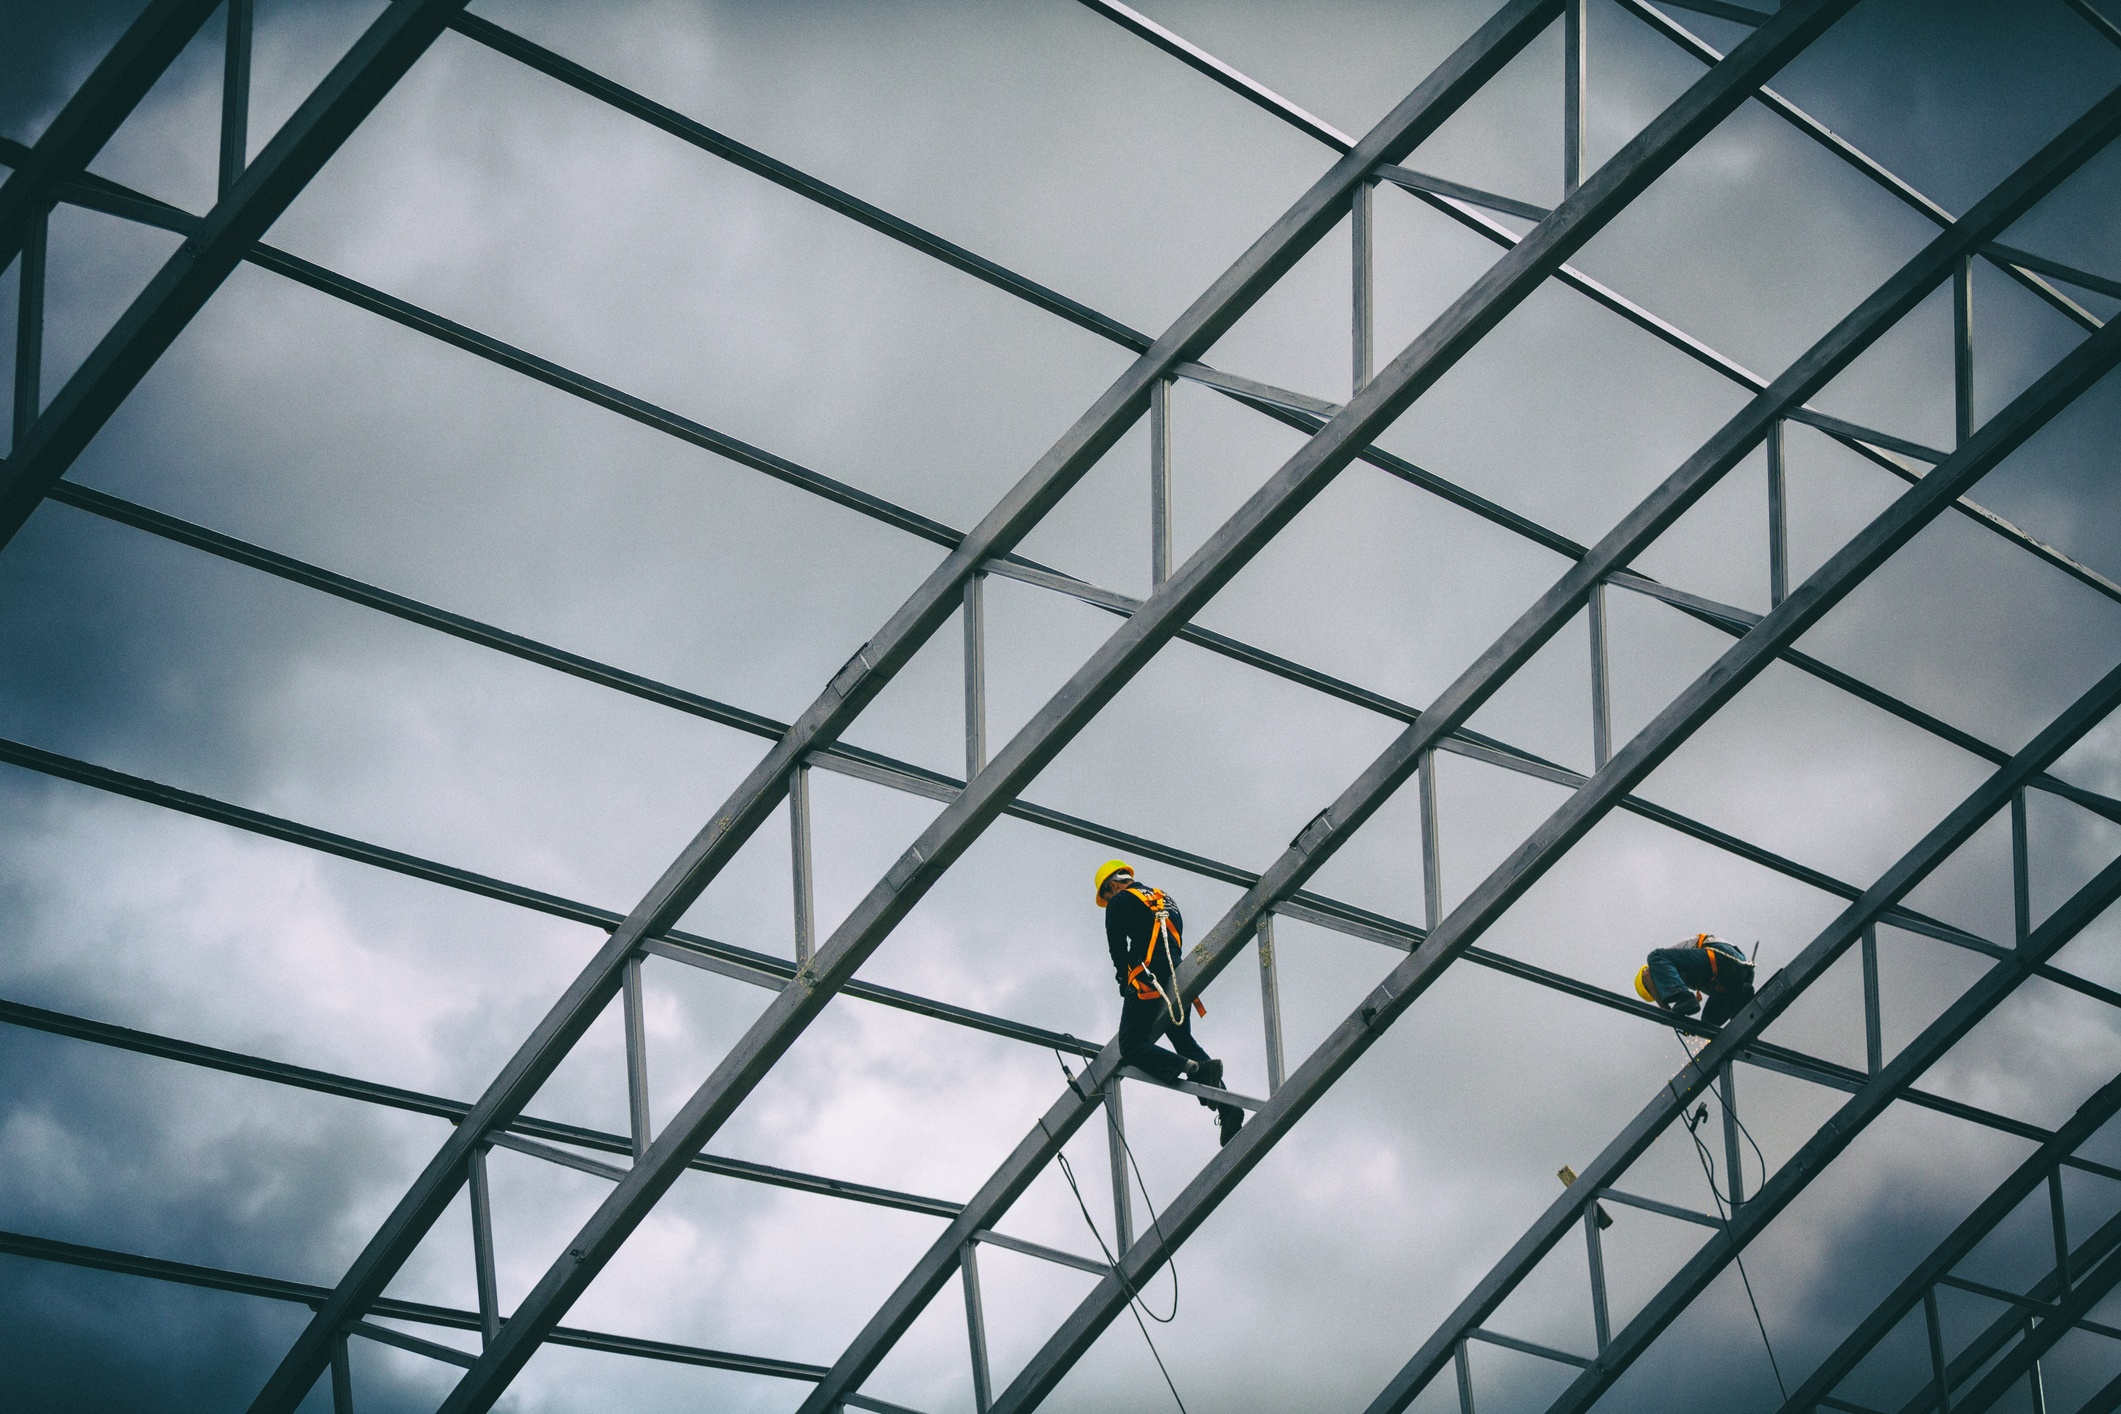yellow: (1090, 854, 1135, 907), (1630, 959, 1659, 1002)
